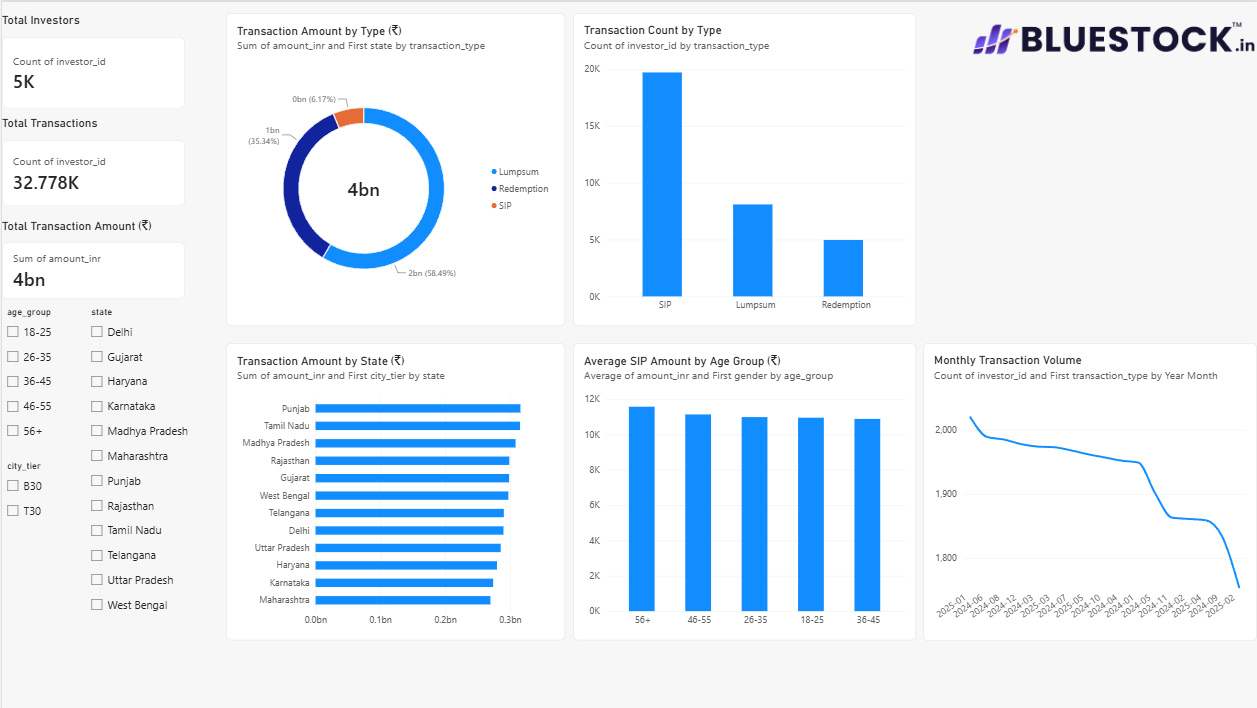

This screenshot's page, from the dashboard's own definition file:
{"tool":"powerbi","page":{"name":"Investor Analytics","canvas":[1920,1080],"ordinal":2},"visuals":[{"type":"cardVisual","title":"Total Investors","fields":{"Data":["Count(investor_transactions_cleaned.investor_id)"]},"box":[62.7,137.1,280.2,146.5],"z":0},{"type":"cardVisual","title":"Total Transactions","fields":{"Data":["CountNonNull(investor_transactions_cleaned.investor_id)"]},"box":[62.7,383.7,280.2,138.5],"z":1000},{"type":"cardVisual","title":"Total Transaction Amount (₹)","fields":{"Data":["Sum(investor_transactions_cleaned.amount_inr)"]},"box":[62.7,649.2,280.2,124.2],"z":2000},{"type":"donutChart","title":"Transaction Amount by Type (₹)","fields":{"Category":["investor_transactions_cleaned.transaction_type"],"Y":["Sum(investor_transactions_cleaned.amount_inr)"]},"box":[342.9,17.5,519.4,478.5],"z":3000},{"type":"clusteredColumnChart","title":"Transaction Count by Type","fields":{"Category":["investor_transactions_cleaned.transaction_type"],"Y":["CountNonNull(investor_transactions_cleaned.investor_id)"]},"box":[873.9,17.5,525.2,478.5],"z":4000},{"type":"slicer","fields":{"Values":["investor_transactions_cleaned.state"]},"box":[1578.6,522.3,172.2,484.4],"z":5000},{"type":"slicer","fields":{"Values":["investor_transactions_cleaned.city_tier"]},"box":[1409.4,760.1,100.7,125.5],"z":6000},{"type":"clusteredBarChart","title":"Transaction Amount by State (₹)","fields":{"Category":["investor_transactions_cleaned.state"],"Y":["Sum(investor_transactions_cleaned.amount_inr)"]},"box":[342.9,522.3,519.4,455.2],"z":7000},{"type":"clusteredColumnChart","title":"Average SIP Amount by Age Group (₹)","fields":{"Category":["investor_transactions_cleaned.age_group"],"Y":["Avg(investor_transactions_cleaned.amount_inr)"]},"box":[873.9,522.3,525.2,455.2],"z":8000},{"type":"lineChart","title":"Monthly Transaction Volume","fields":{"Category":["dim_date.Year Month"],"Y":["CountNonNull(investor_transactions_cleaned.investor_id)"]},"box":[1409.4,17.5,510.6,478.5],"z":9000},{"type":"slicer","fields":{"Values":["investor_transactions_cleaned.age_group"]},"box":[1409.4,522.3,100.7,217.4],"z":10000}]}

Visuals, with their boxes in screenshot pixels (x1, y1, x2, y2), scaled from the page's 1920x1080 canvas onto the 1257x708 screenshot:
"Total Investors" cardVisual: box(41, 90, 224, 186)
"Total Transactions" cardVisual: box(41, 252, 224, 342)
"Total Transaction Amount (₹)" cardVisual: box(41, 426, 224, 507)
"Transaction Amount by Type (₹)" donutChart: box(224, 11, 565, 325)
"Transaction Count by Type" clusteredColumnChart: box(572, 11, 916, 325)
slicer - investor_transactions_cleaned.state: box(1033, 342, 1146, 660)
slicer - investor_transactions_cleaned.city_tier: box(923, 498, 989, 581)
"Transaction Amount by State (₹)" clusteredBarChart: box(224, 342, 565, 641)
"Average SIP Amount by Age Group (₹)" clusteredColumnChart: box(572, 342, 916, 641)
"Monthly Transaction Volume" lineChart: box(923, 11, 1256, 325)
slicer - investor_transactions_cleaned.age_group: box(923, 342, 989, 485)
